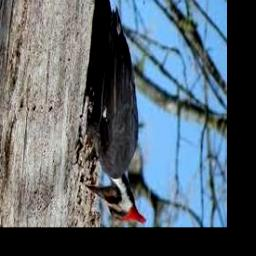Woodpecker: (83, 8, 146, 223)
